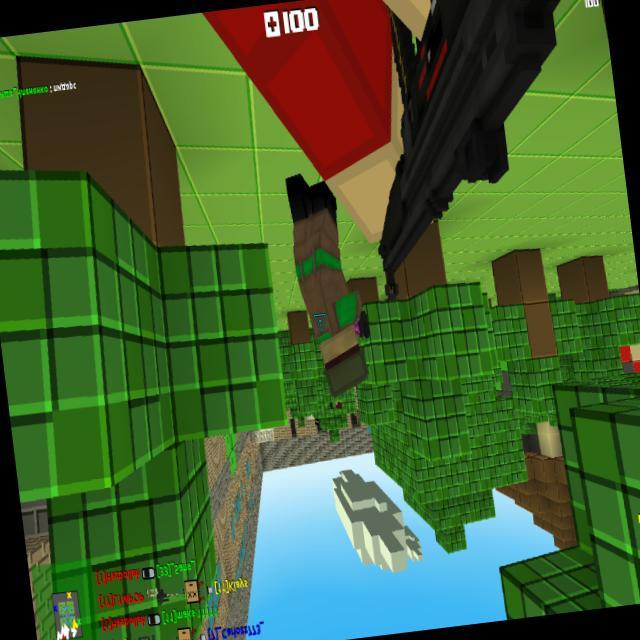enemy: (284, 168, 374, 401)
